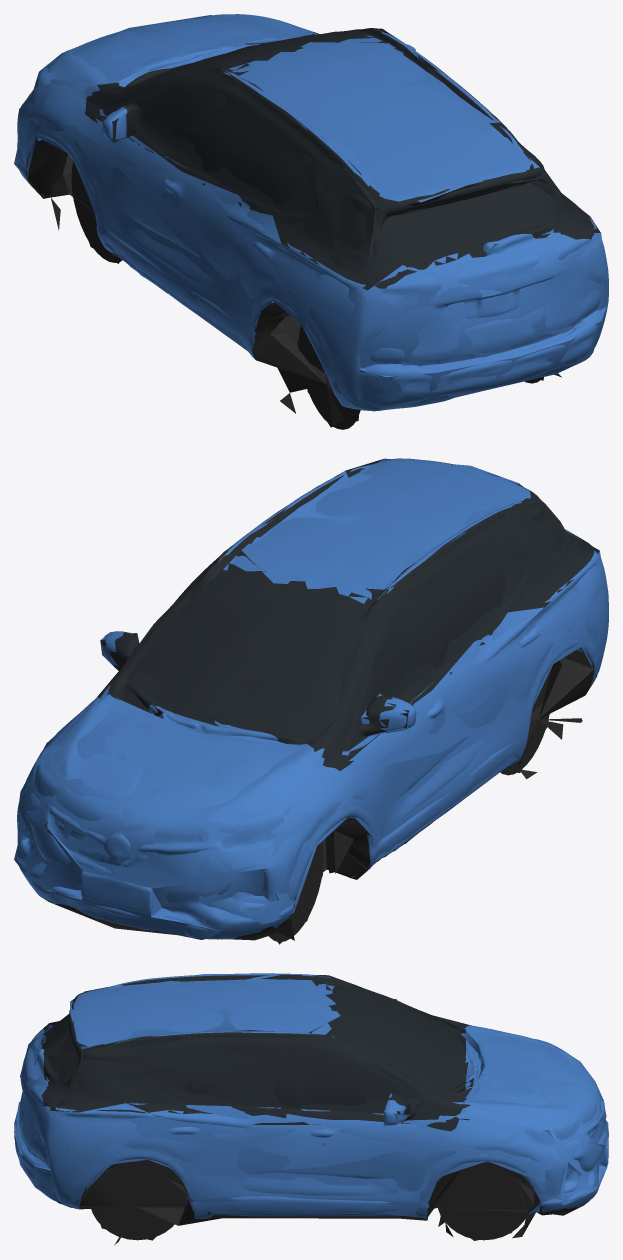
Rendered from buick-encore-gx.glb.
3 views of the same model, one above another, from view 1: azimuth 30°, elevation 25°; view 2: azimuth 150°, elevation 25°; view 3: azimuth 270°, elevation 25° (orthographic). The views are drawn at different scales.
Parts seen in each view (by area): view 1: body, far; view 2: body, far; view 3: body, far.
Part boxes in pixels (left/top/right/bottom): body: left=17, top=14, right=608, bottom=429; far: left=14, top=15, right=606, bottom=427; body: left=16, top=458, right=608, bottom=942; far: left=14, top=458, right=605, bottom=944; body: left=14, top=973, right=608, bottom=1245; far: left=14, top=974, right=608, bottom=1240.
Bounding box in the file's own units: 2.01 × 1.67 × 4.4.
